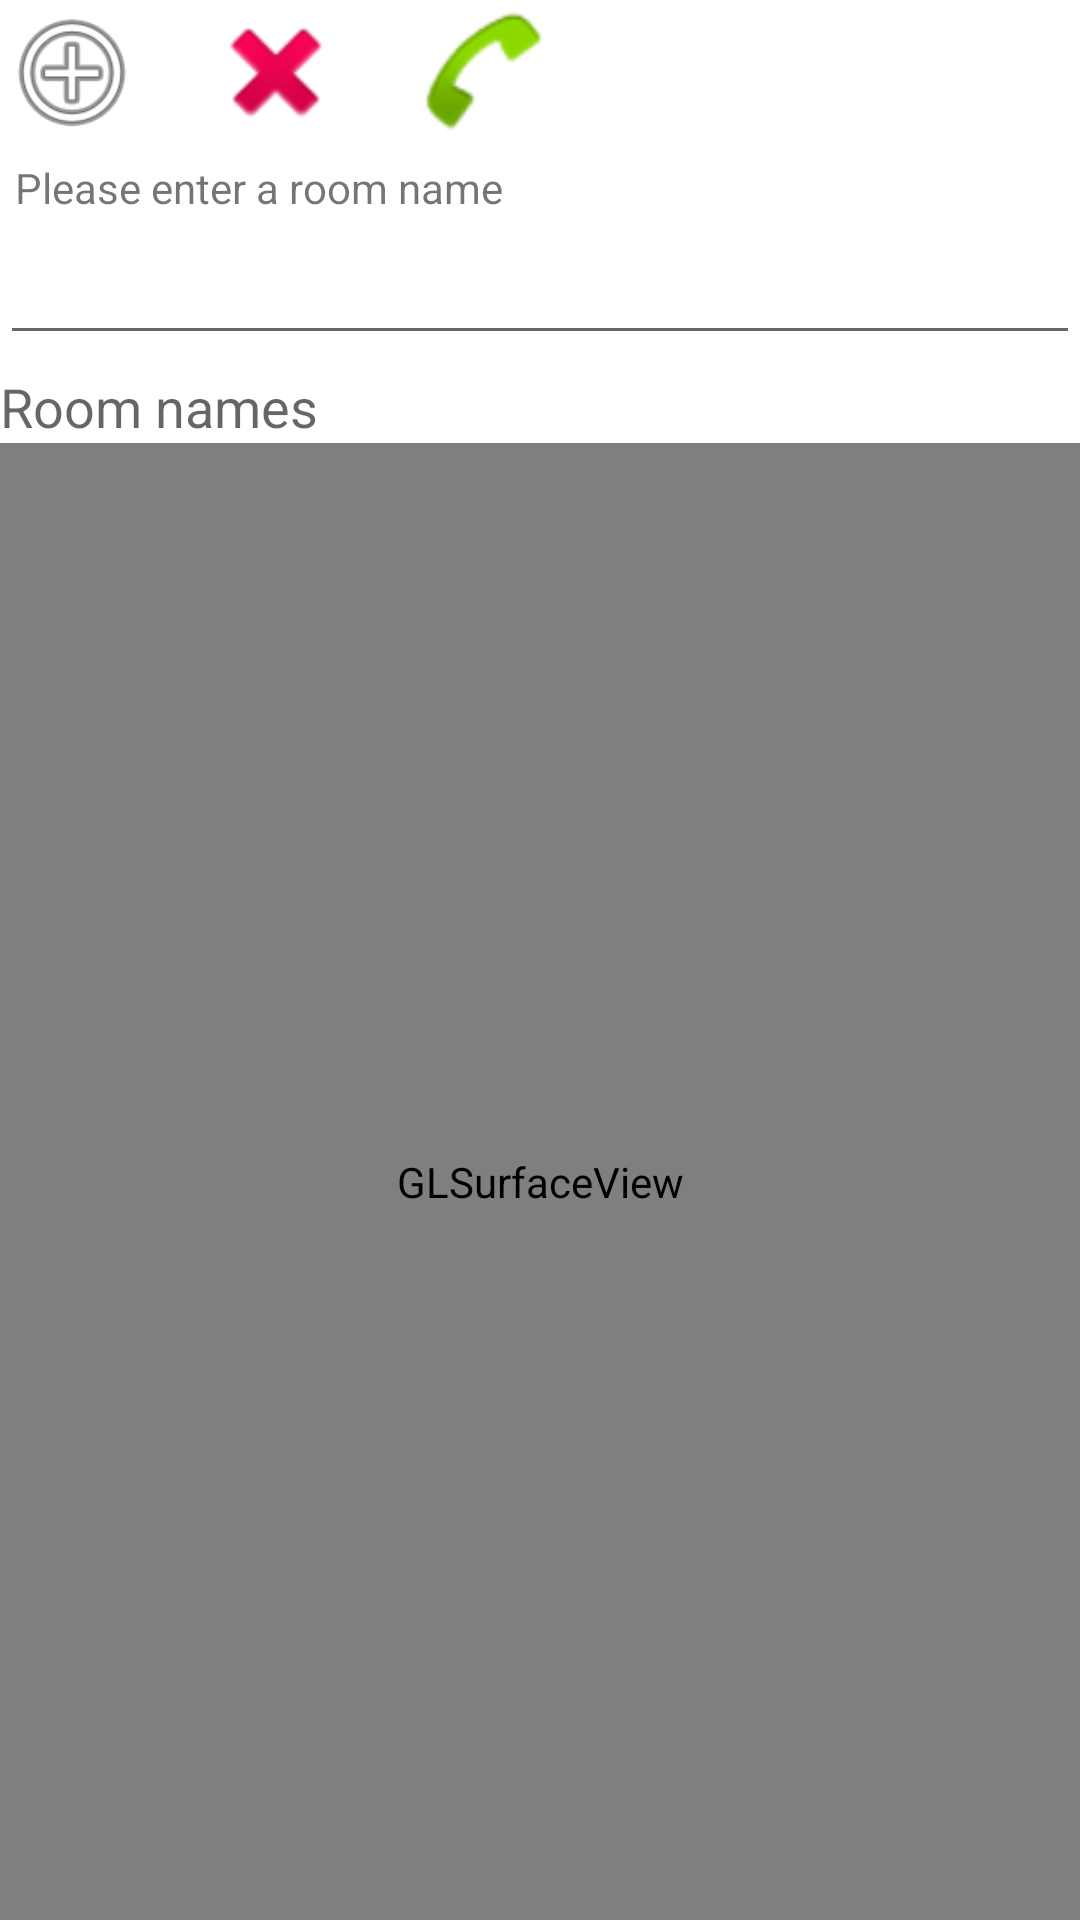

Named icons in this screenshot (1080 × 1920) and their centers, point (x, y):
add new room to the list: point (72, 72)
connect to the room: point (484, 71)
remove room from the list: point (276, 72)
